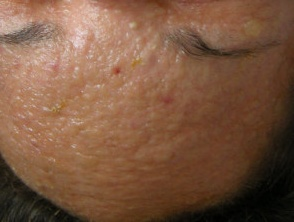SJS-TEN: (0, 16, 271, 219)
